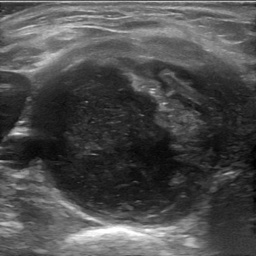mass: (34, 51, 218, 224)
